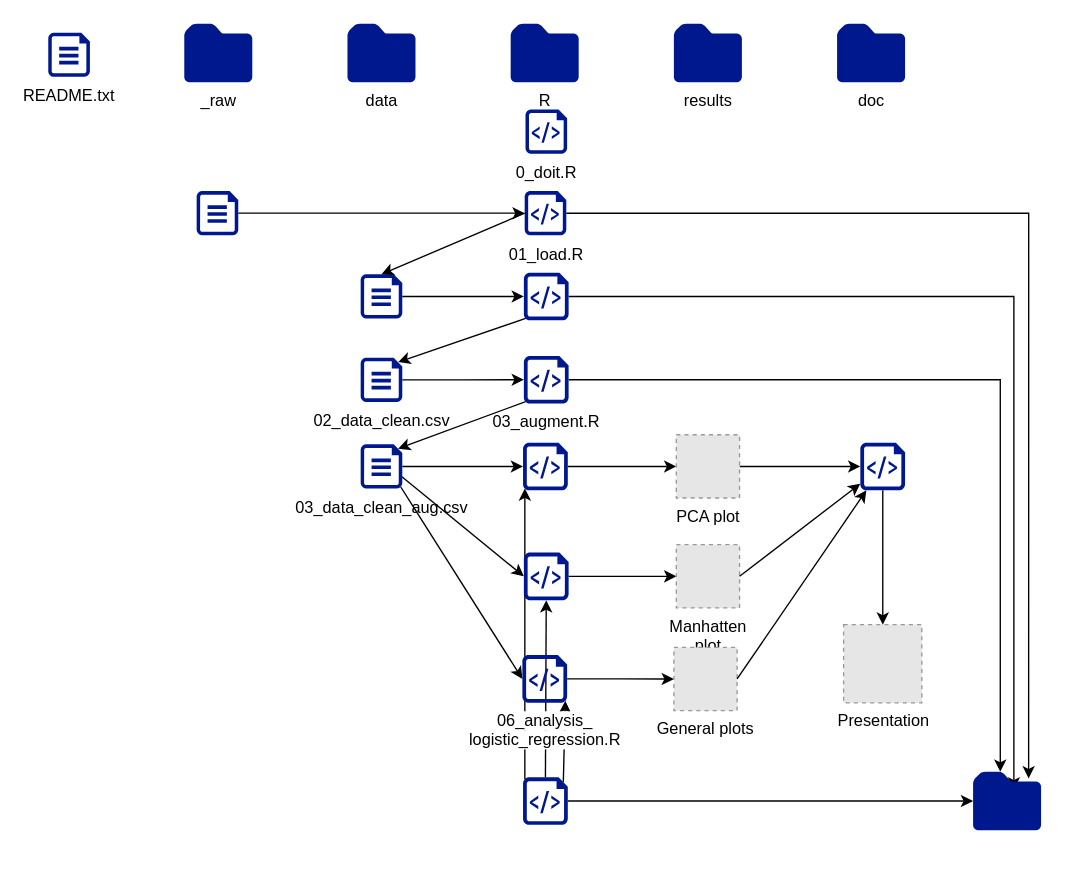
The diagram is 1065 pixels wide and 881 high, and some of its shapes have lost their labels. Grey dashed boxes stand in for pictures. The shapes that lost their labels are listed below. From the top down, each one's centre as x and y in pixels, then its label:
At [217,212]: "raw_data.csv".
At [381,296]: "01_data_load.csv".
At [545,296]: "02_clean.R".
At [544,466]: "04_analysis_ general_visualization.R".
At [882,466]: "Presentation.Rmd".
At [545,575]: "05_analysis_PCA .R".
At [544,800]: "99_proj_func.R".
At [1006,800]: "App".
